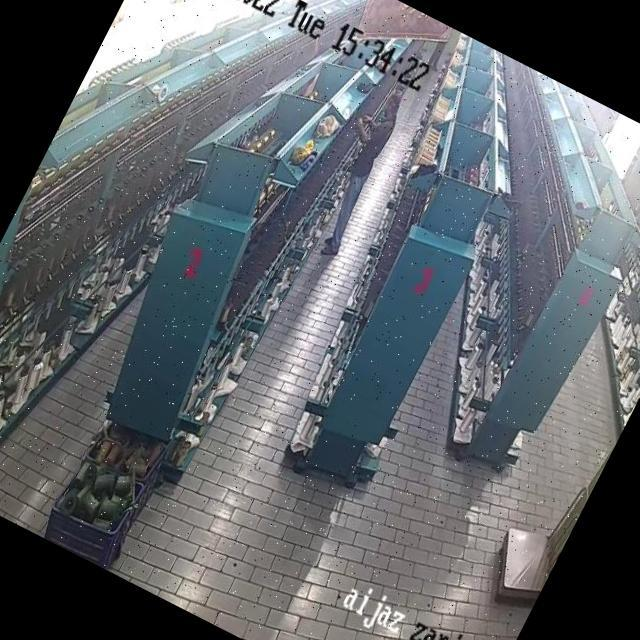person: (299, 84, 426, 270)
